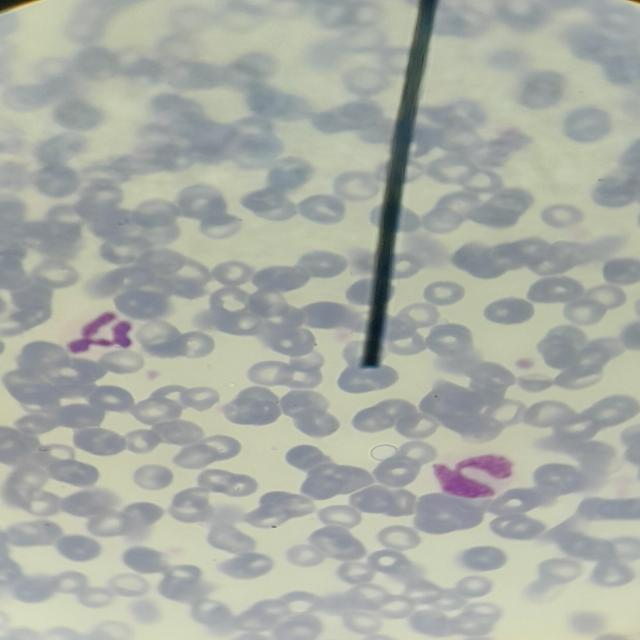Neutrofilo: (427, 448, 517, 500), (66, 306, 142, 357)
